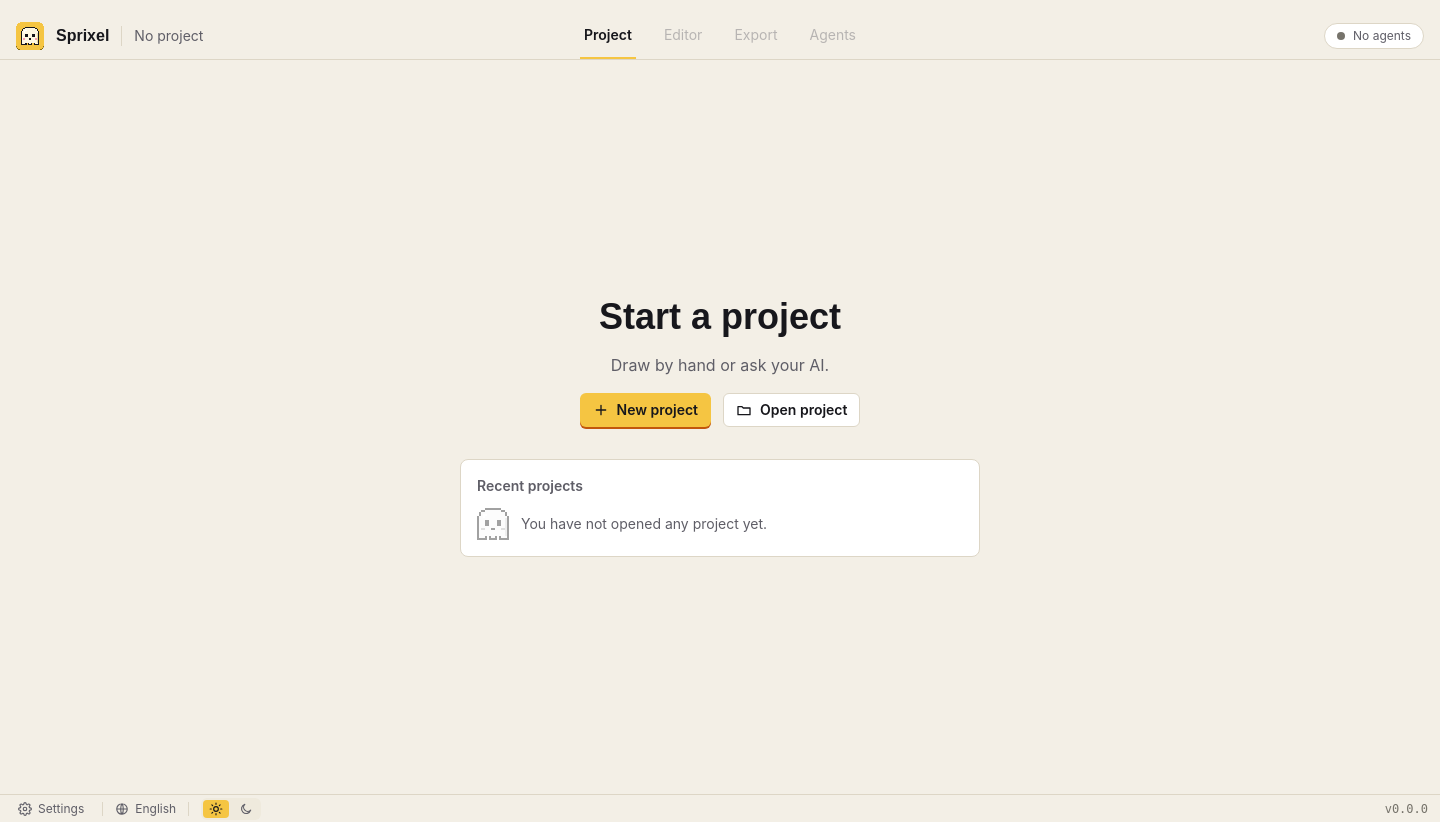
Scenario: Project tab in the app › opens the Editor tab with the sprite when its card is double-clicked
The image size is (1440, 822).
Click the button "Open project" at (792, 410), box [723,393,860,427]
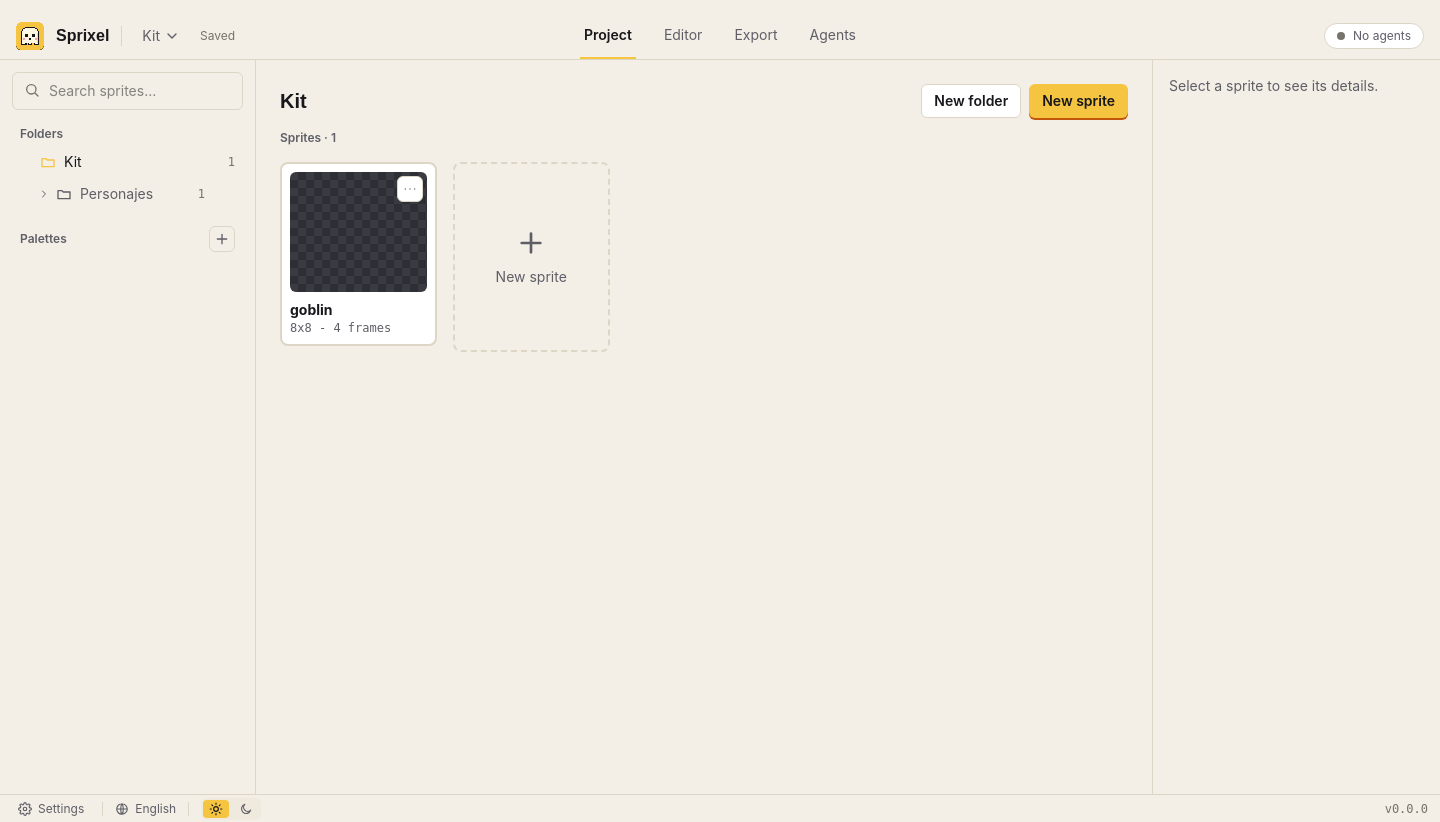
Click the button "Personajes 1" at (130, 194), box [56,178,205,210]
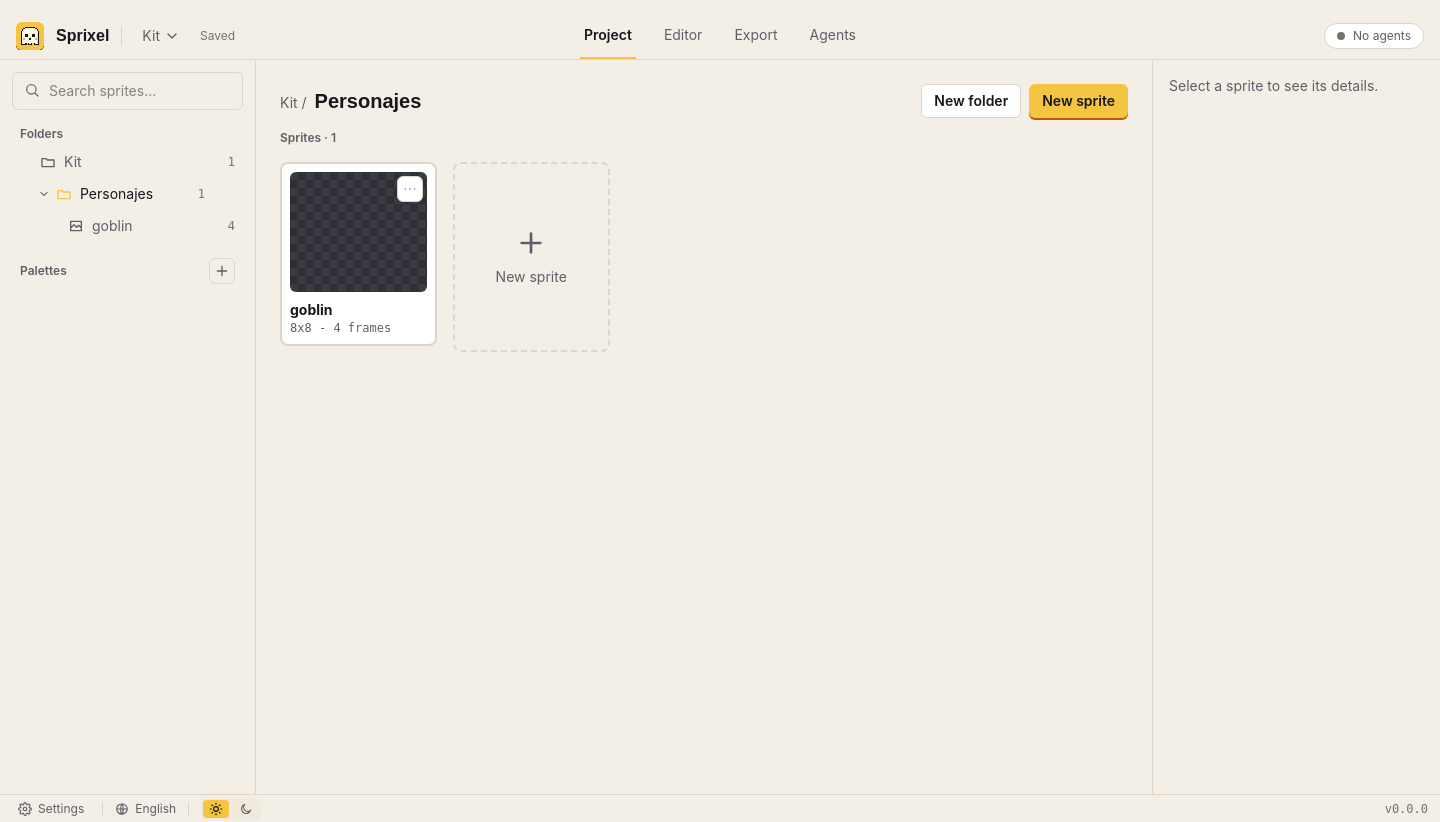
Double-click the button "goblin 8x8 - 4 frames" at (358, 254), box [290,172,427,336]
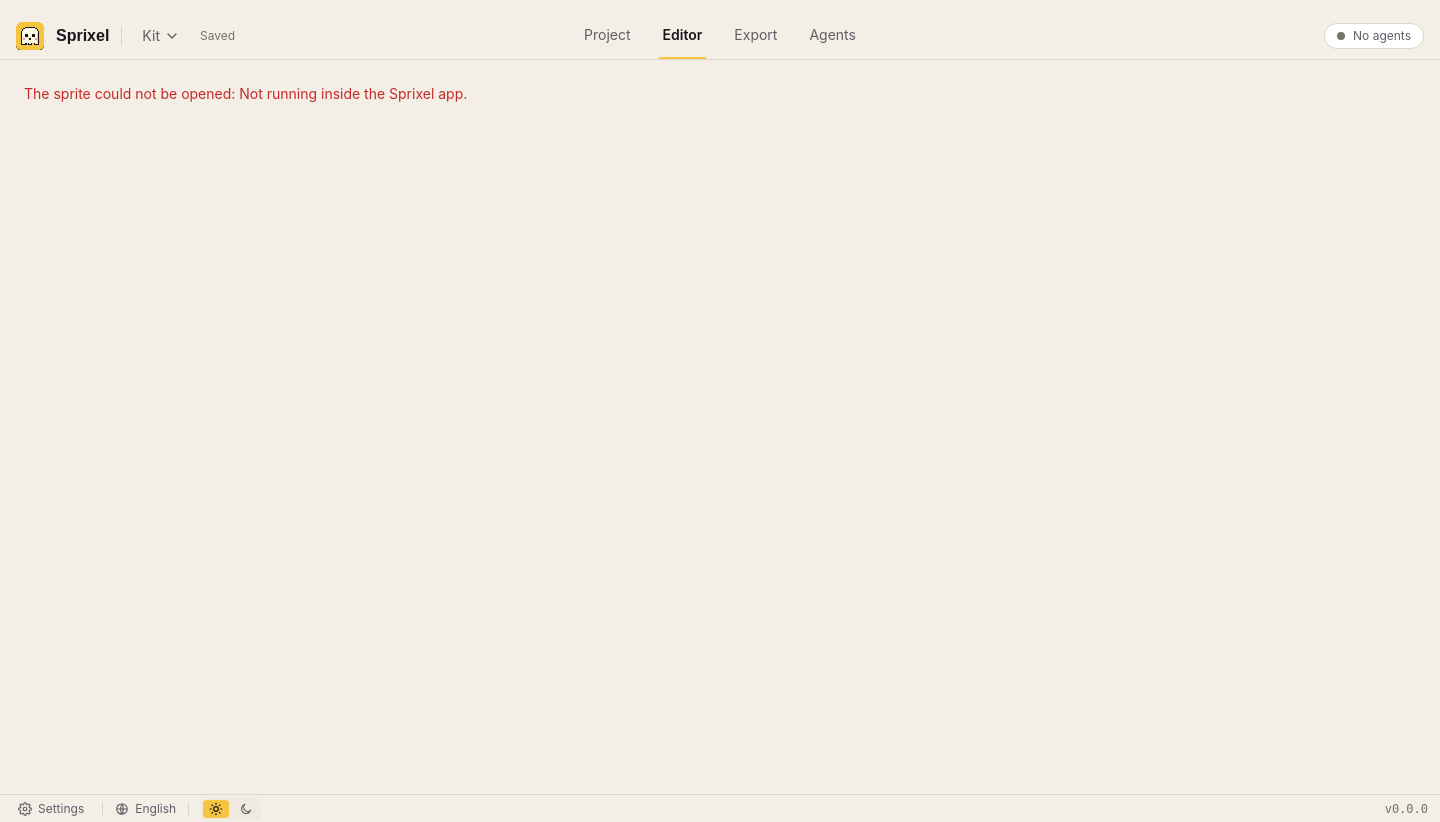
Result: the message shows "The sprite could not be opened" at [24,85,467,102]
